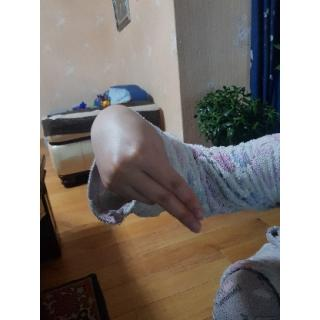AYN: (88, 102, 209, 236)
